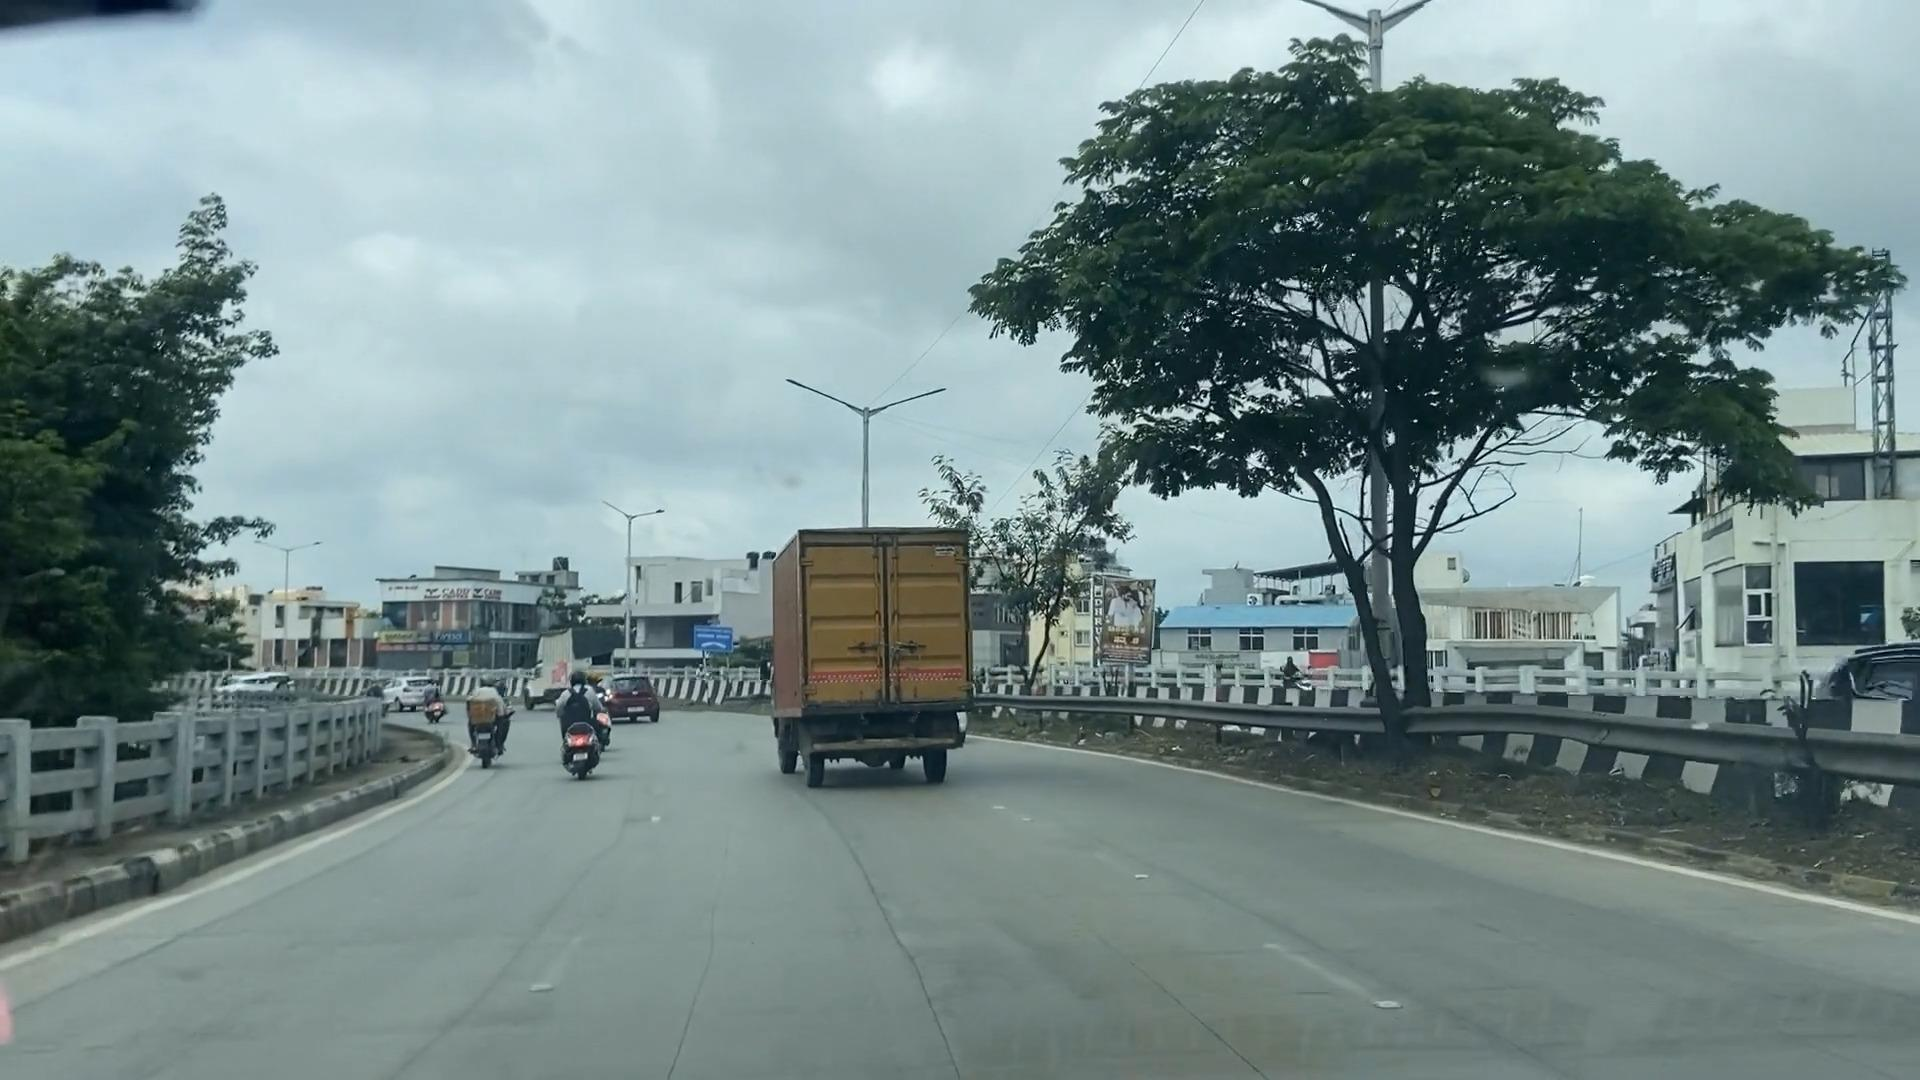HMV: (766, 523, 984, 791)
LMV: (440, 680, 519, 770)
